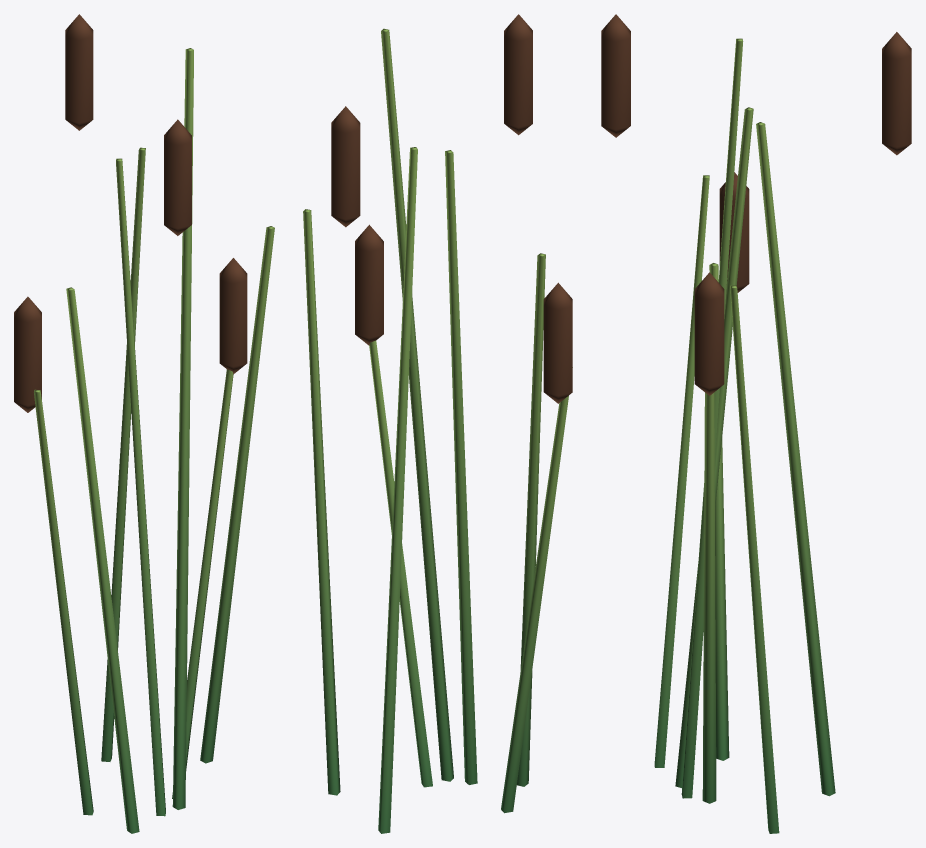
File: reeds.glb
3 renders of one model, left to right at view 1: azimuth 30°, elevation 25°; view 2: azimuth 150°, elevation 25°; view 3: azimuth 270°, elevation 25°, orthographic. The views are drawn at different scales.
Visible parts, largest first — view 1: reeds; view 2: reeds; view 3: reeds.
Part boxes in pixels (bbox=[...]): reeds: bbox=[14, 14, 274, 833]; reeds: bbox=[303, 14, 572, 833]; reeds: bbox=[601, 14, 911, 833].
Size of the model in its own units: 0.5569 by 1.5 by 0.5449.
